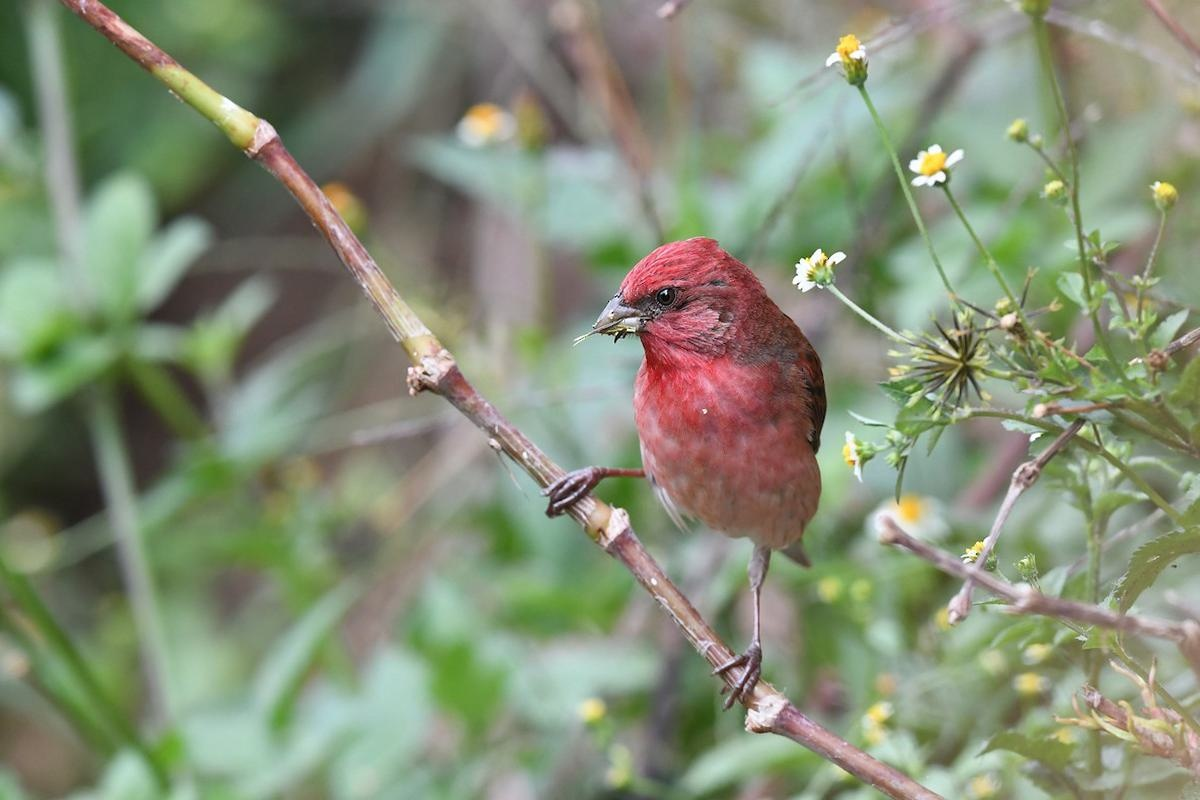rosefinch: (574, 216, 829, 634)
